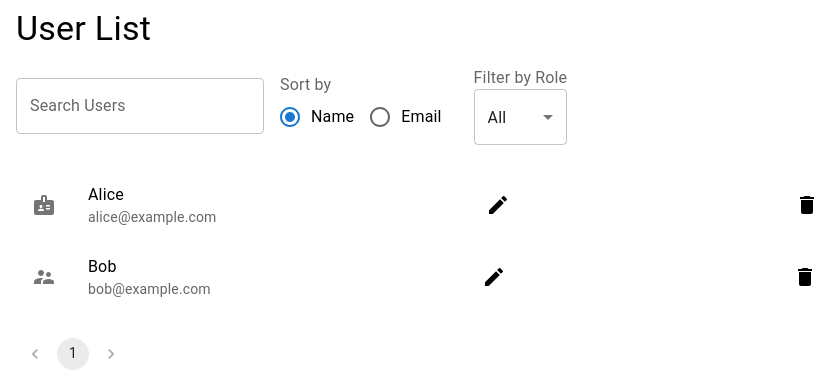
it: UserEmployeeListMittel Component › should filter users by role
The image size is (831, 387).
Click the dropdown named "Filter by Role" at (497, 118), box [488, 108, 506, 127]
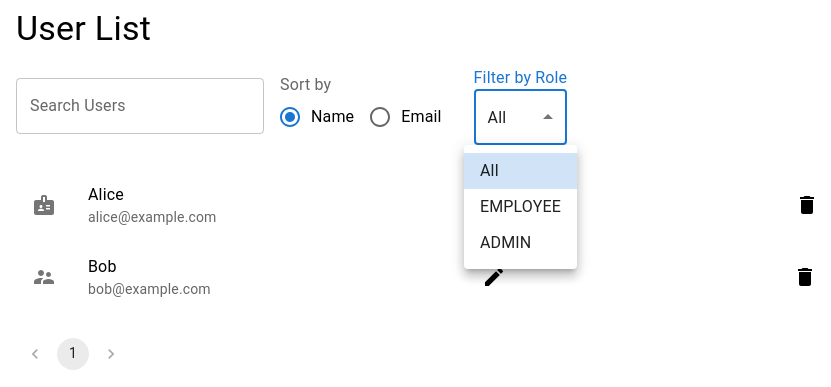
Click the option "EMPLOYEE" at (520, 206), box [480, 197, 561, 216]
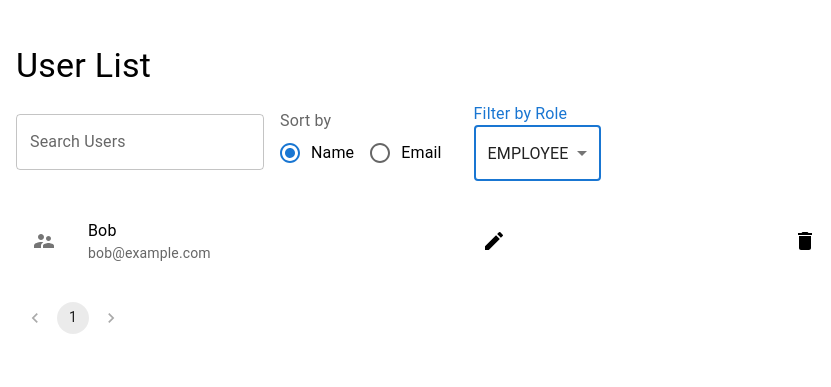
expect the text "Bob" is shown: met, box [88, 222, 116, 240]
expect the text "Alice" is gone: met
